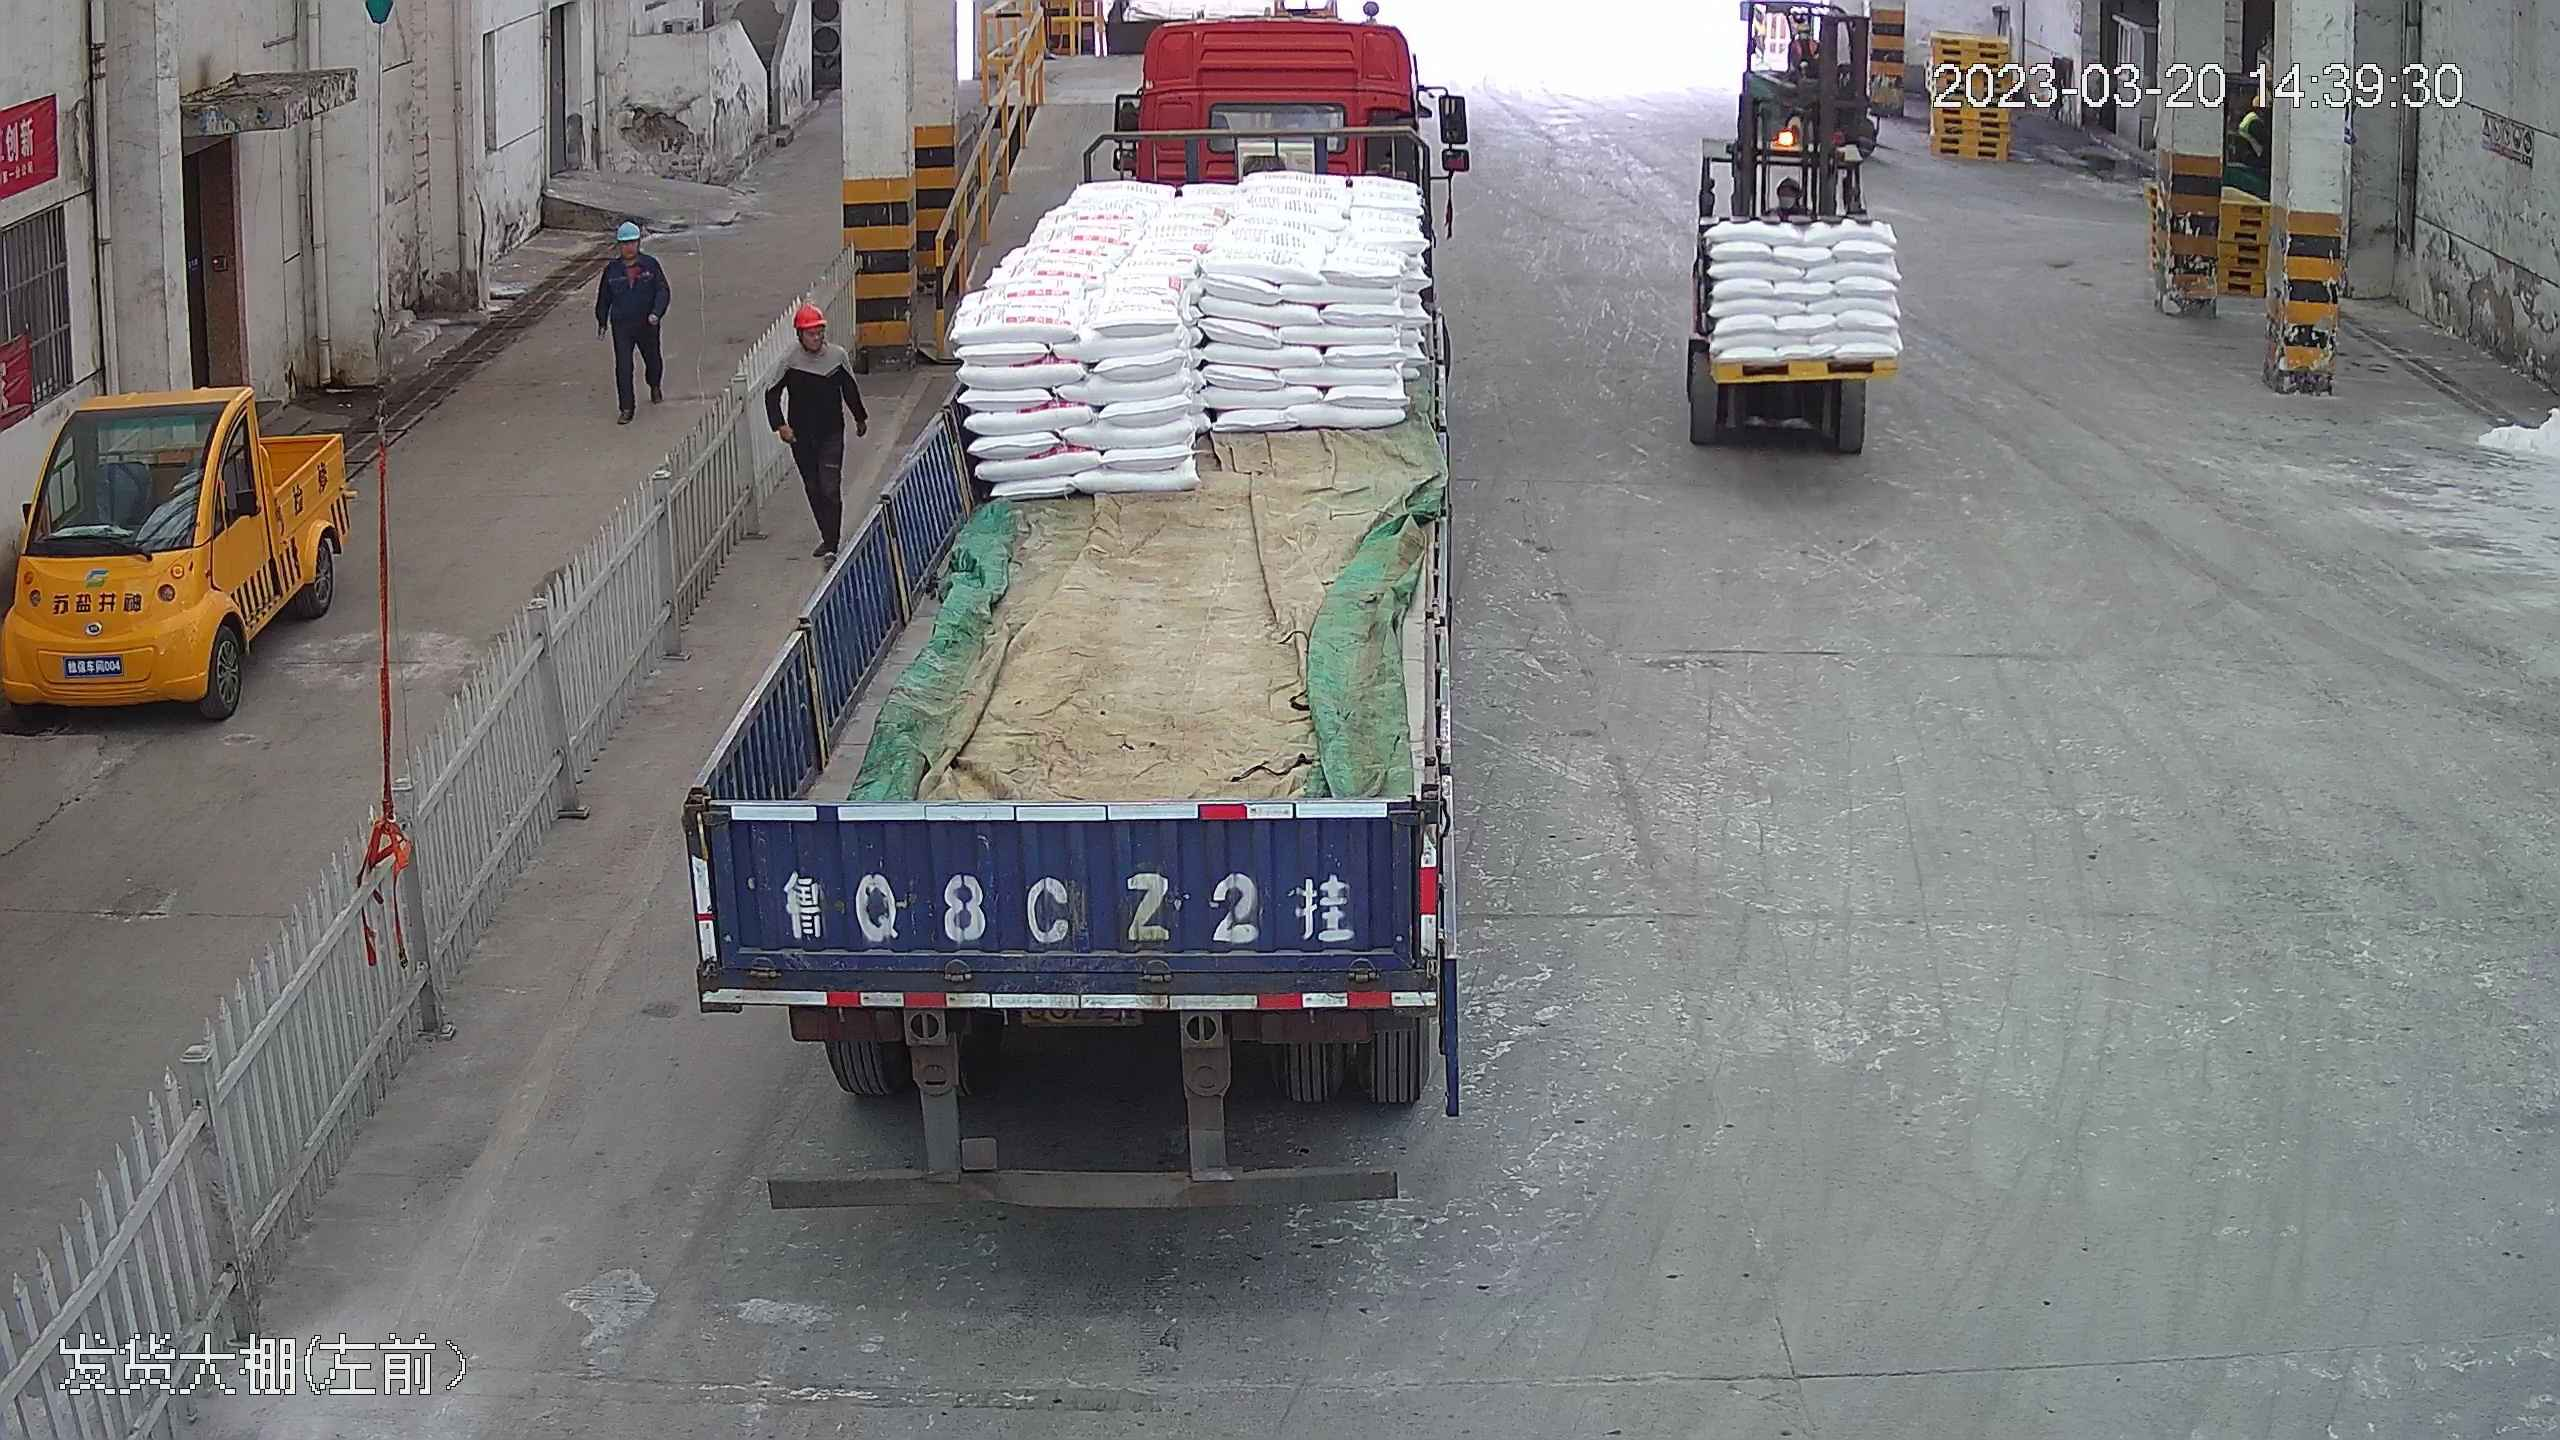head: (773, 300, 856, 386), (601, 222, 662, 283)
helmet: (789, 297, 829, 328), (616, 223, 644, 244)
people: (763, 298, 868, 561), (589, 217, 674, 422)
truck: (691, 1, 1470, 1182)
